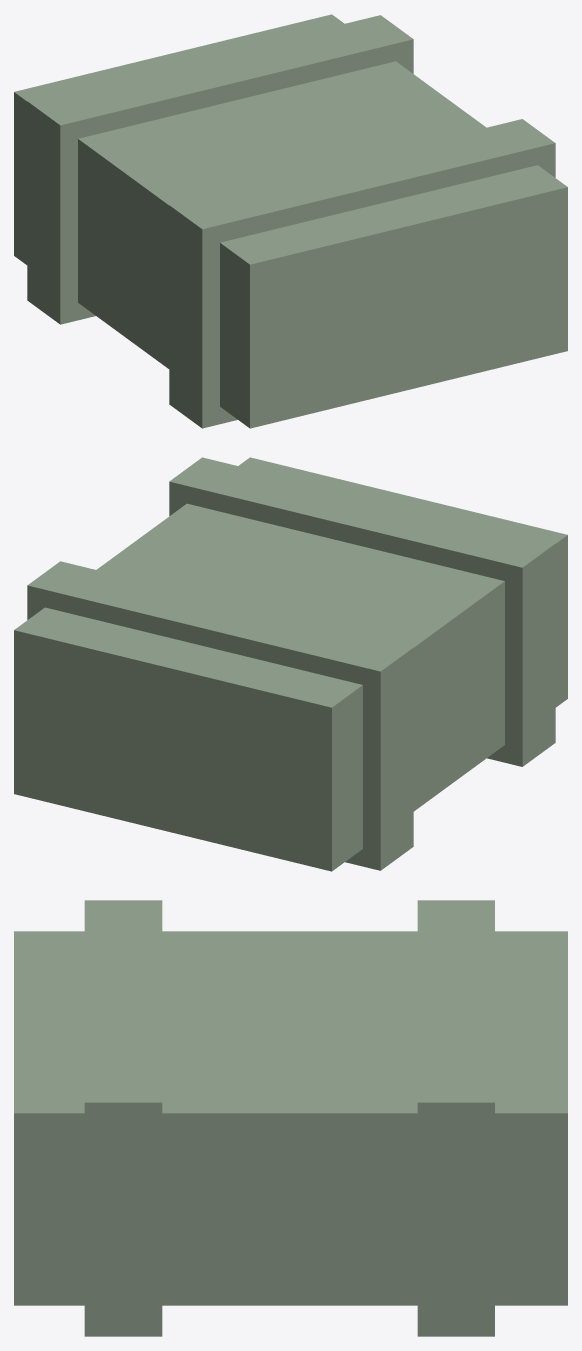
The model's file is ammo_box_01.fbx.
3 renders of one model, top to bottom at view 1: azimuth 30°, elevation 25°; view 2: azimuth 150°, elevation 25°; view 3: azimuth 270°, elevation 25°, orthographic. The views are drawn at different scales.
Visible parts, largest first — view 1: ammo_box_01; view 2: ammo_box_01; view 3: ammo_box_01.
Part boxes in pixels (bbox=[...]): ammo_box_01: bbox=[14, 14, 567, 428]; ammo_box_01: bbox=[14, 457, 567, 871]; ammo_box_01: bbox=[14, 900, 567, 1336].
Size of the model in its own units: 1.08 by 0.5804 by 1.25.
